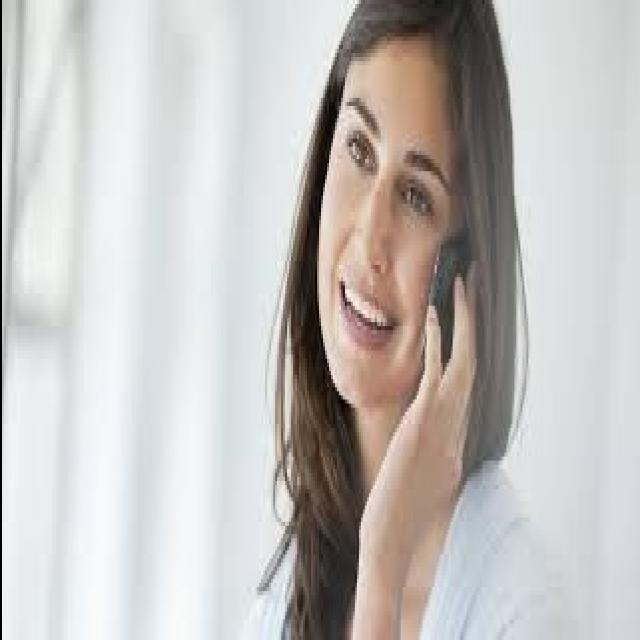phone: (347, 135, 482, 534)
